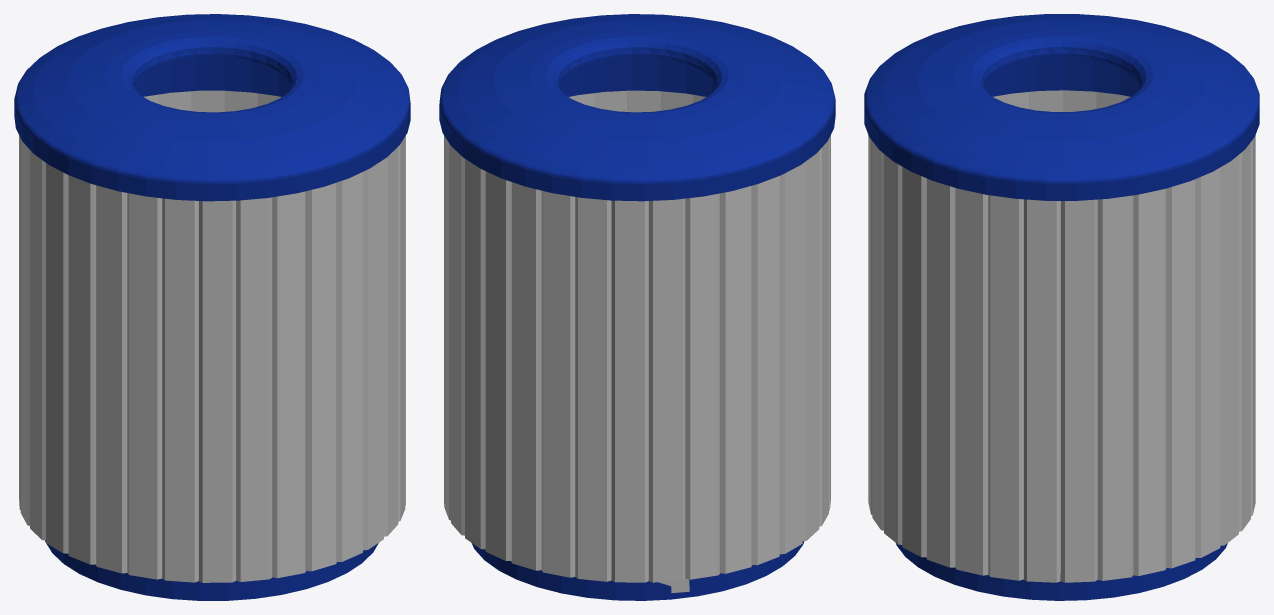
The picture shows the model from 3 angles, left to right: view 1: azimuth 30°, elevation 25°; view 2: azimuth 150°, elevation 25°; view 3: azimuth 270°, elevation 25°; orthographic projection.
Visible parts, largest first — view 1: mesh9.002_mesh9-geometry, mesh20.045_mesh20-geometry, mesh20.047_mesh20-geometry, mesh20.046_mesh20-geometry, mesh20.044_mesh20-geometry, mesh20.048_mesh20-geometry, mesh20.043_mesh20-geometry, mesh20.049_mesh20-geometry, mesh20.042_mesh20-geometry, mesh20.050_mesh20-geometry, mesh20.041_mesh20-geometry, mesh20.051_mesh20-geometry (+10 smaller); view 2: mesh9.002_mesh9-geometry, mesh20.035_mesh20-geometry, mesh20.036_mesh20-geometry, mesh20.066_mesh20-geometry, mesh20.037_mesh20-geometry, mesh20.065_mesh20-geometry, mesh20.038_mesh20-geometry, mesh20.064_mesh20-geometry, mesh20.039_mesh20-geometry, mesh20.063_mesh20-geometry, mesh20.040_mesh20-geometry, mesh20.062_mesh20-geometry (+9 smaller); view 3: mesh9.002_mesh9-geometry, mesh20.056_mesh20-geometry, mesh20.057_mesh20-geometry, mesh20.058_mesh20-geometry, mesh20.055_mesh20-geometry, mesh20.059_mesh20-geometry, mesh20.054_mesh20-geometry, mesh20.060_mesh20-geometry, mesh20.053_mesh20-geometry, mesh20.061_mesh20-geometry, mesh20.052_mesh20-geometry, mesh20.062_mesh20-geometry (+9 smaller).
Part boxes in pixels (bbox=[...]): mesh9.002_mesh9-geometry: bbox=[14, 14, 410, 201]; mesh20.045_mesh20-geometry: bbox=[162, 198, 198, 582]; mesh20.047_mesh20-geometry: bbox=[236, 197, 272, 581]; mesh20.046_mesh20-geometry: bbox=[199, 200, 235, 582]; mesh20.044_mesh20-geometry: bbox=[127, 193, 162, 579]; mesh20.048_mesh20-geometry: bbox=[272, 191, 306, 578]; mesh20.043_mesh20-geometry: bbox=[96, 185, 127, 573]; mesh20.049_mesh20-geometry: bbox=[306, 182, 336, 571]; mesh20.042_mesh20-geometry: bbox=[68, 175, 95, 564]; mesh20.050_mesh20-geometry: bbox=[337, 172, 362, 561]; mesh20.041_mesh20-geometry: bbox=[46, 163, 68, 553]; mesh20.051_mesh20-geometry: bbox=[363, 159, 383, 550]; mesh9.002_mesh9-geometry: bbox=[439, 14, 835, 201]; mesh20.035_mesh20-geometry: bbox=[611, 200, 648, 582]; mesh20.036_mesh20-geometry: bbox=[648, 198, 685, 582]; mesh20.066_mesh20-geometry: bbox=[575, 197, 611, 581]; mesh20.037_mesh20-geometry: bbox=[685, 193, 720, 579]; mesh20.065_mesh20-geometry: bbox=[541, 190, 575, 577]; mesh20.038_mesh20-geometry: bbox=[720, 186, 752, 573]; mesh20.064_mesh20-geometry: bbox=[511, 182, 541, 570]; mesh20.039_mesh20-geometry: bbox=[752, 176, 779, 565]; mesh20.063_mesh20-geometry: bbox=[485, 171, 511, 560]; mesh20.040_mesh20-geometry: bbox=[779, 164, 802, 554]; mesh20.062_mesh20-geometry: bbox=[465, 159, 485, 549]; mesh9.002_mesh9-geometry: bbox=[864, 14, 1259, 200]; mesh20.056_mesh20-geometry: bbox=[1024, 199, 1060, 582]; mesh20.057_mesh20-geometry: bbox=[1061, 199, 1097, 582]; mesh20.058_mesh20-geometry: bbox=[1097, 195, 1133, 580]; mesh20.055_mesh20-geometry: bbox=[988, 195, 1023, 580]; mesh20.059_mesh20-geometry: bbox=[1133, 188, 1166, 575]; mesh20.054_mesh20-geometry: bbox=[955, 188, 988, 575]; mesh20.060_mesh20-geometry: bbox=[1166, 179, 1195, 568]; mesh20.053_mesh20-geometry: bbox=[926, 178, 955, 567]; mesh20.061_mesh20-geometry: bbox=[1195, 167, 1220, 557]; mesh20.052_mesh20-geometry: bbox=[902, 167, 926, 557]; mesh20.062_mesh20-geometry: bbox=[1220, 155, 1238, 545].
Size of the model in its own units: 0.5266 by 0.6674 by 0.5266.
